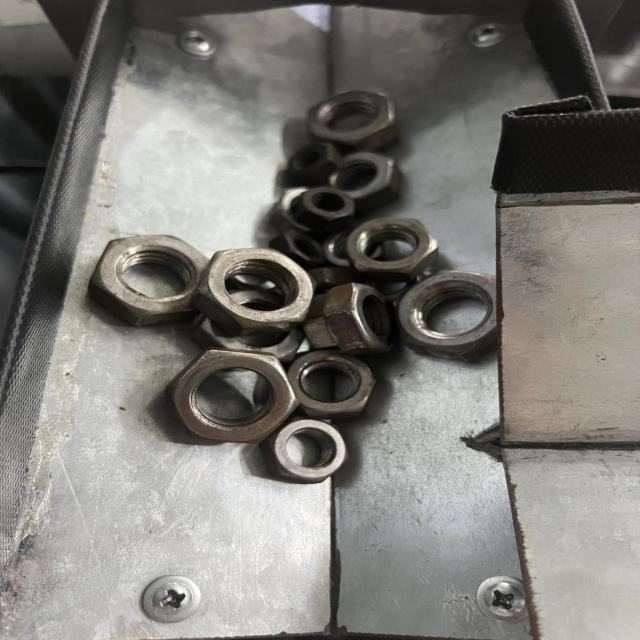nut: (167, 349, 298, 448), (89, 232, 210, 326), (214, 249, 312, 327), (271, 421, 354, 487)
